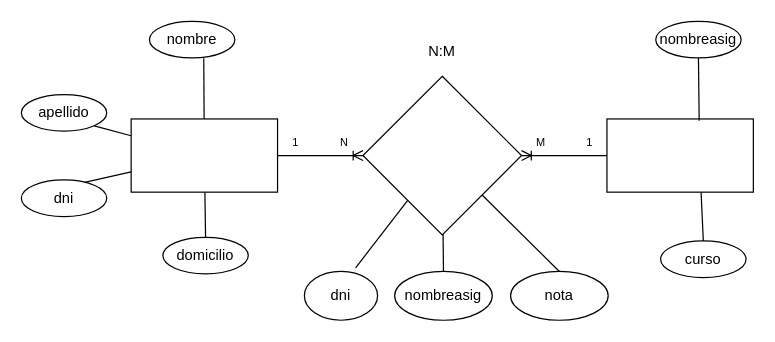
The diagram is 775 pixels wide and 342 high, and some of its shapes have lost their labels. Each missing label, with the centre of its shape:
ALUMNOS: point 204,155
ASIGNATURAS: point 679,155
CALIFICACIONES: point 442,155
